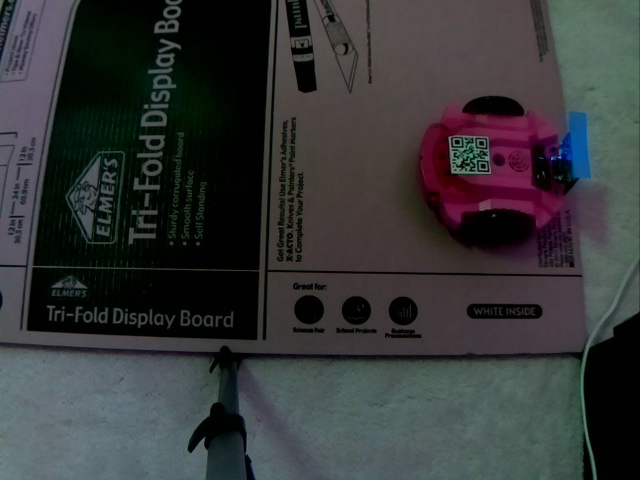board: (535, 114, 599, 187)
chassis: (413, 92, 598, 246)
